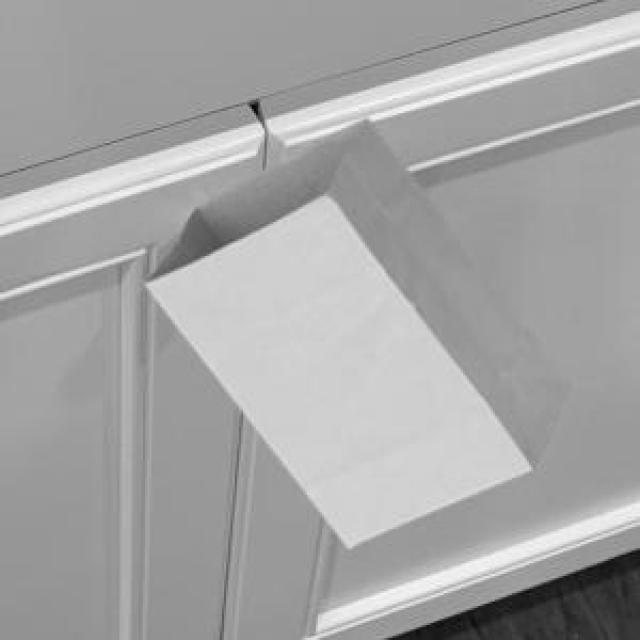paper: (143, 115, 563, 544)
